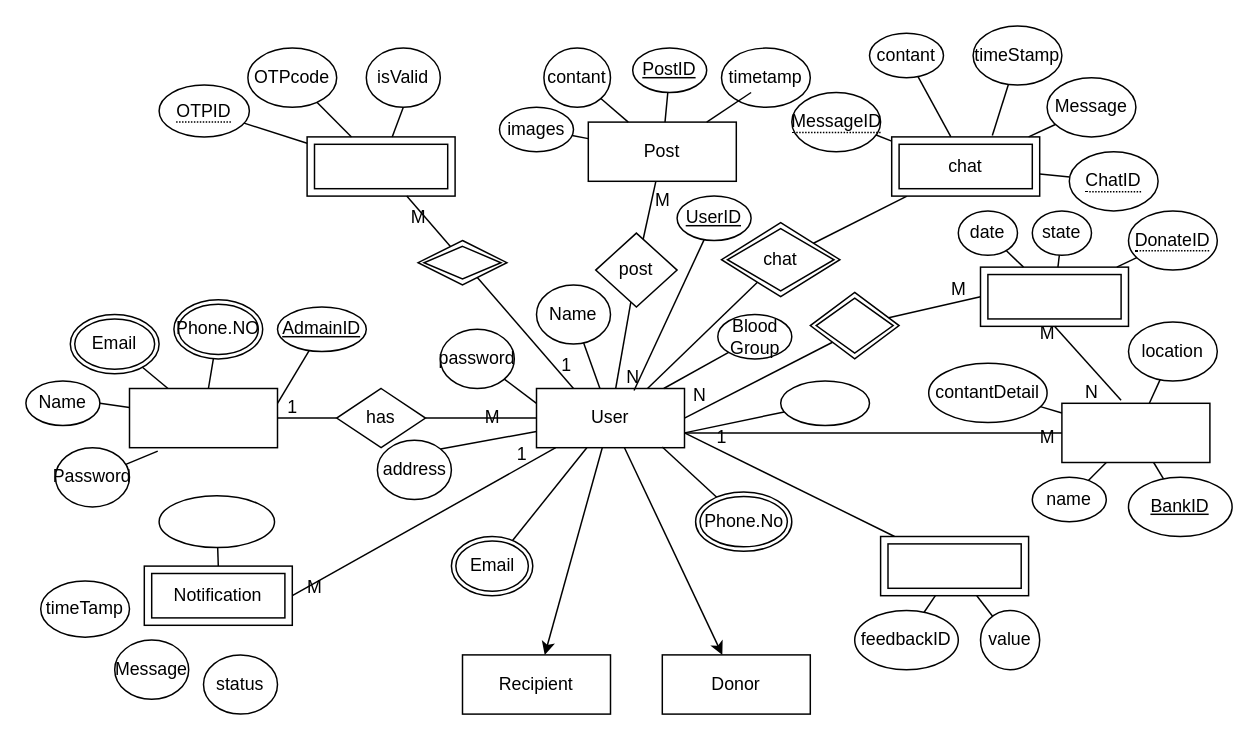
This 1258x740 diagram has some shape labels left out. The shapes that lost their labels are listed below. From the top down, each one's centre as x and y in pixels, then its label:
At (380,165): "OTP".
At (462,262): "get".
At (1053,296): "BloodDontation".
At (854,325): "denote".
At (203,417): "Admain".
At (824,403): "isDenor".
At (1135,432): "BloodBank".
At (216,521): "NotificationID".
At (954,565): "FeedBack".
